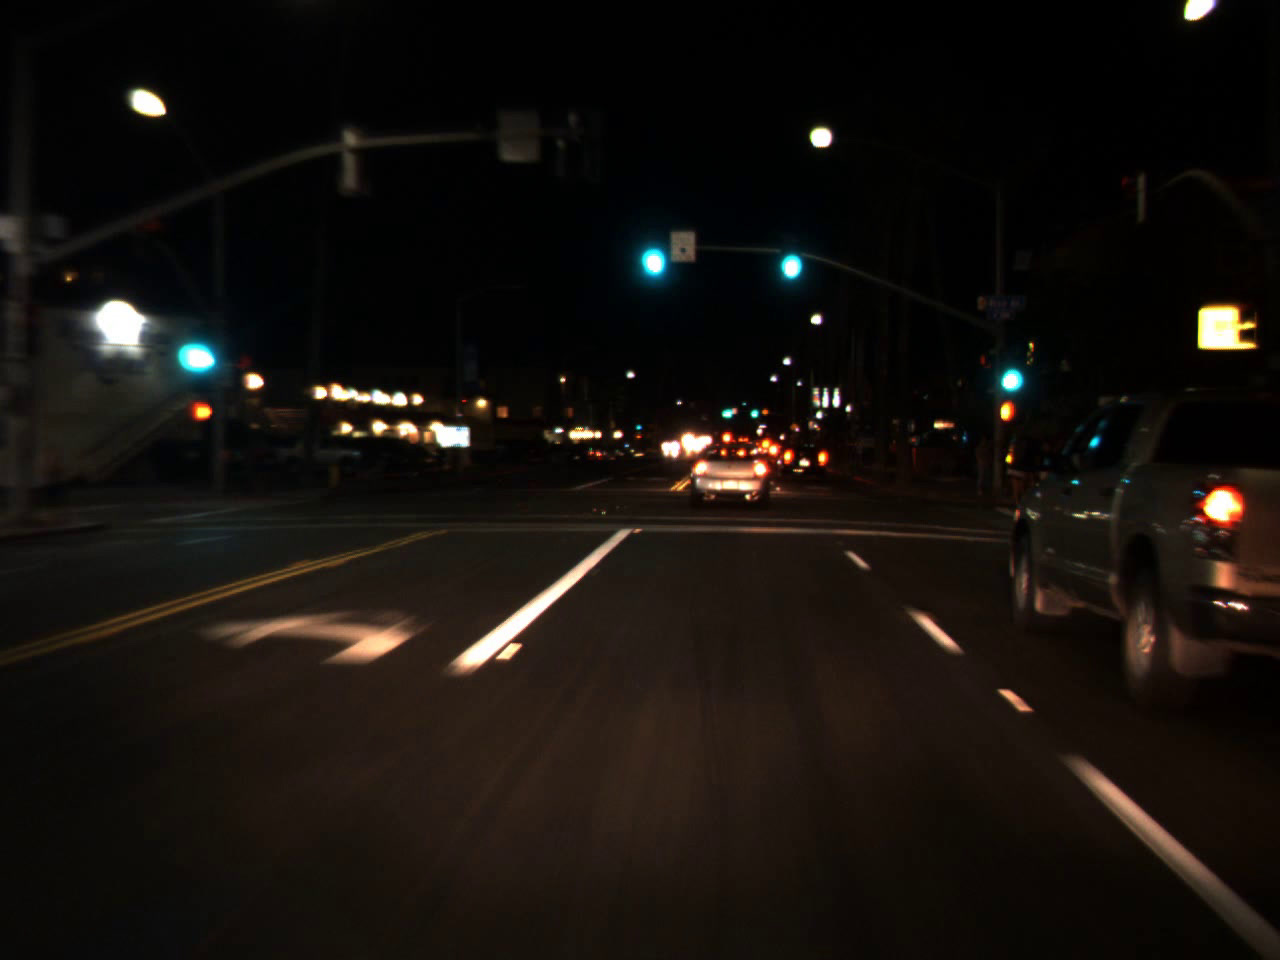go: (168, 306, 220, 384), (631, 212, 670, 287), (992, 338, 1028, 401), (772, 223, 806, 289), (718, 399, 734, 420), (749, 402, 759, 420), (634, 419, 641, 431)
